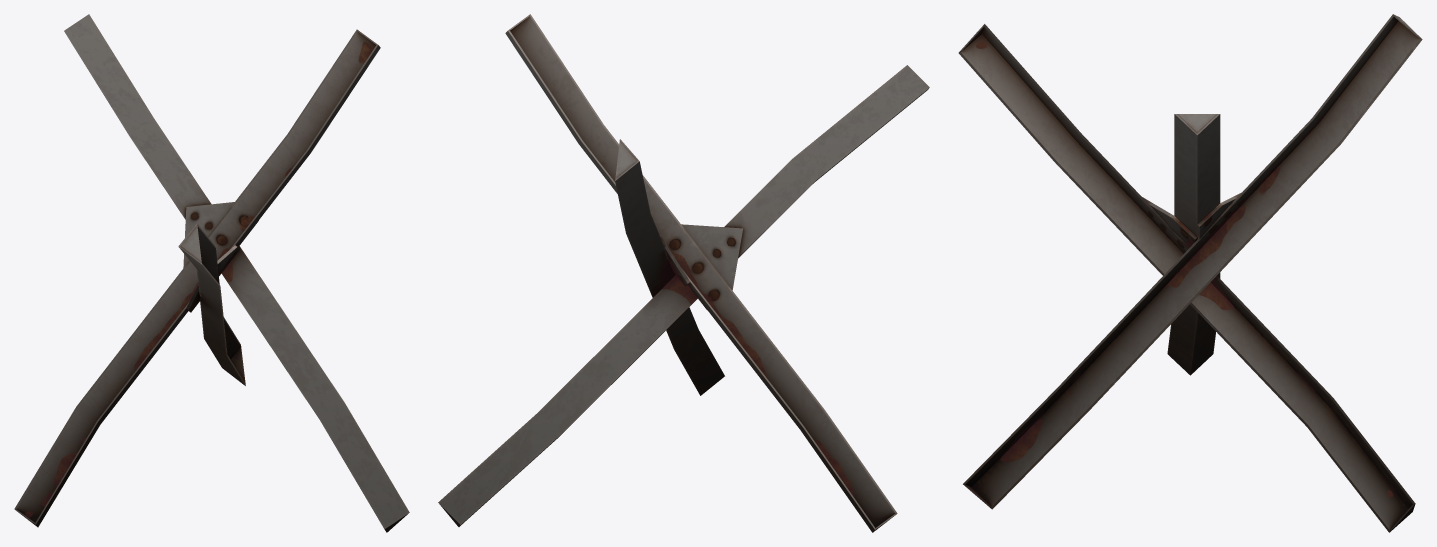
Rendered from BarrierTank01.FBX.
3 renders of one model, left to right at view 1: azimuth 30°, elevation 25°; view 2: azimuth 150°, elevation 25°; view 3: azimuth 270°, elevation 25°, orthographic. The views are drawn at different scales.
Parts seen in each view (by area): view 1: BarrierTank01; view 2: BarrierTank01; view 3: BarrierTank01.
Boxes of the visible parts, x1,y1,x2,y2 form: BarrierTank01: (14, 14, 409, 532); BarrierTank01: (438, 14, 929, 532); BarrierTank01: (958, 14, 1422, 532).
Size of what is drawn, in the model's own units: 1.36 by 1.49 by 1.43.
